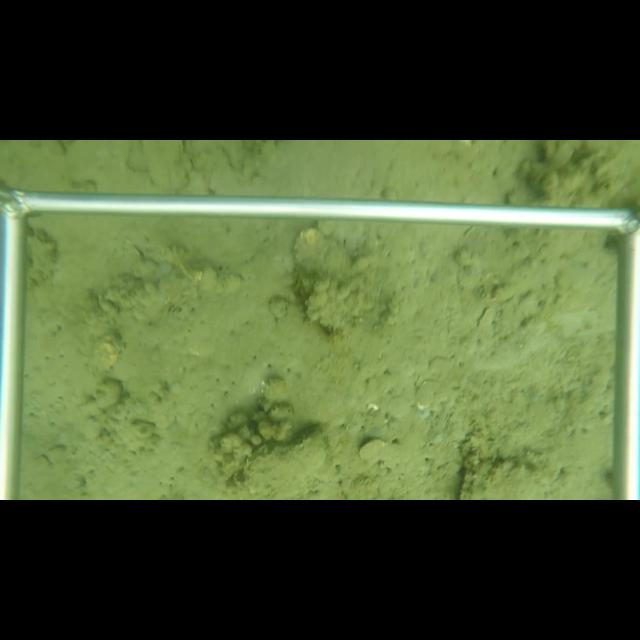Oyster-Closed: (288, 222, 381, 336), (242, 424, 330, 499), (454, 455, 548, 499), (355, 437, 388, 463)
